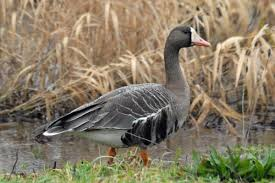goose: (31, 24, 212, 169)
